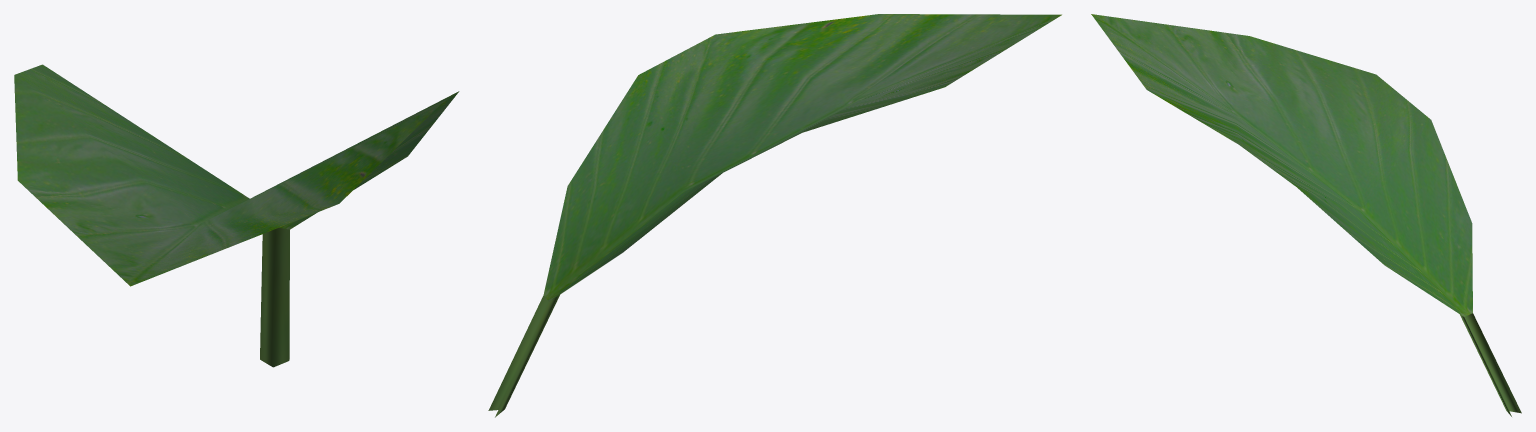
File: leafy.glb
3 views of the same model, side by side, from view 1: azimuth 30°, elevation 25°; view 2: azimuth 150°, elevation 25°; view 3: azimuth 270°, elevation 25° (orthographic). The views are drawn at different scales.
Parts seen in each view (by area): view 1: Plane.004_7; view 2: Plane.004_7; view 3: Plane.004_7.
Part boxes in pixels (x1=…): Plane.004_7: x1=14, y1=64, x2=459, y2=367; Plane.004_7: x1=488, y1=14, x2=1061, y2=417; Plane.004_7: x1=1091, y1=14, x2=1521, y2=416.
Size of the model in its own units: 0.1956 by 0.1691 by 0.2515.
1 material, 1 textured.
